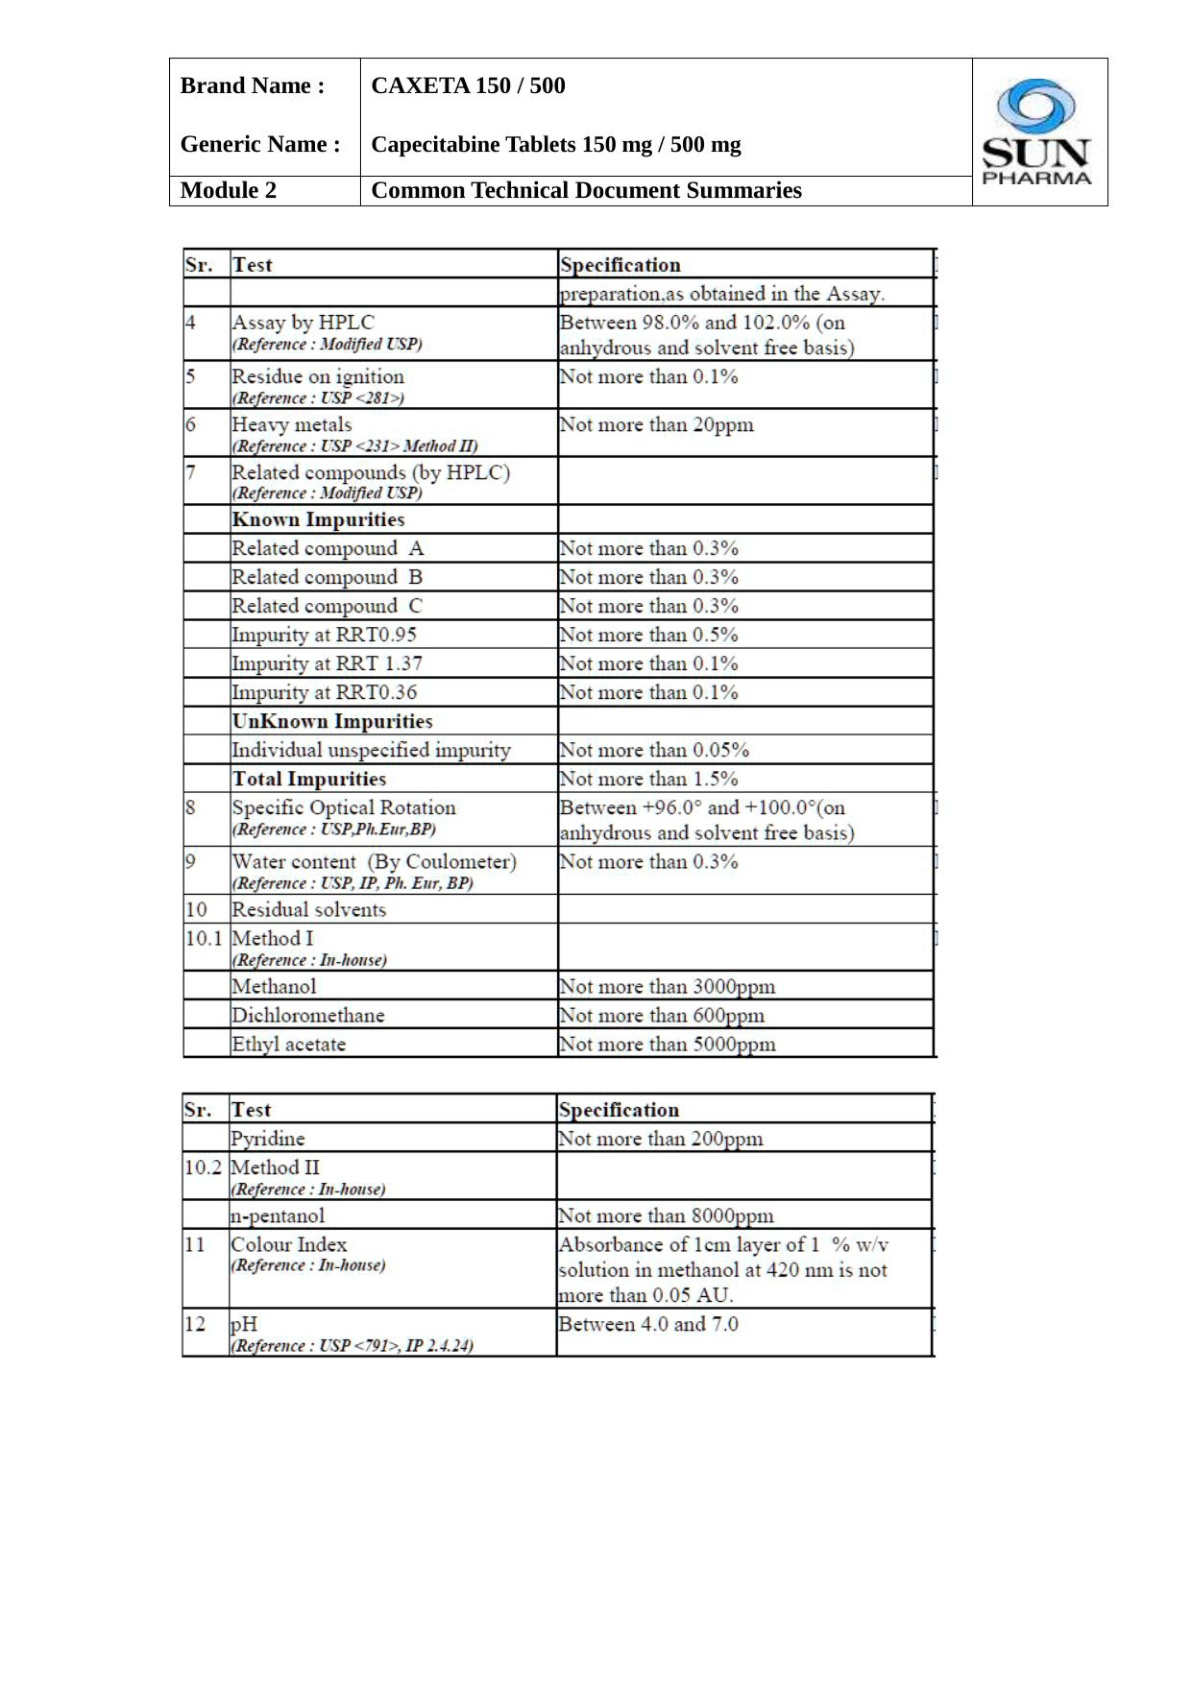full_lined: (182, 246, 939, 1060), (179, 1091, 937, 1360)
merged_cells: (168, 55, 1109, 206)
